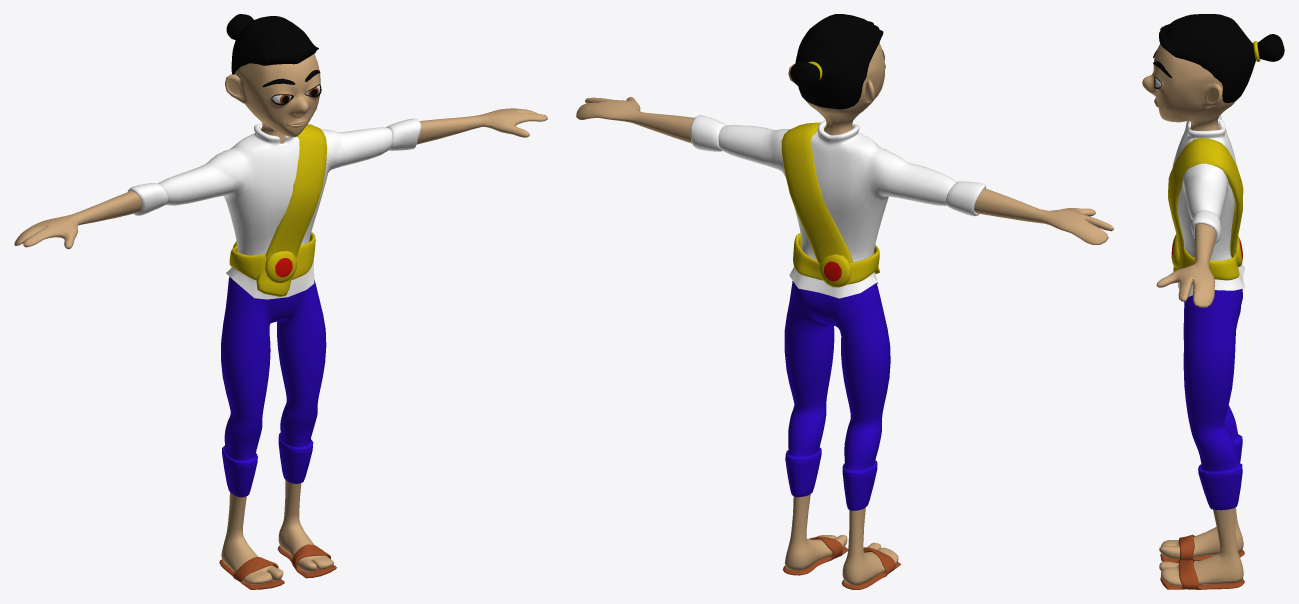
Rendered from OlderBrother_Smooth_SpencerBarber.fbx.
3 views of the same model, side by side, from view 1: azimuth 30°, elevation 25°; view 2: azimuth 150°, elevation 25°; view 3: azimuth 270°, elevation 25° (orthographic).
Parts seen in each view (by area): view 1: polySurface1; view 2: polySurface1; view 3: polySurface1.
Part boxes in pixels (x1,y1,x2,y2): polySurface1: (14, 14, 547, 589); polySurface1: (576, 14, 1113, 589); polySurface1: (1142, 14, 1284, 589).
Bounding box in the file's own units: 13.76 × 13.59 × 3.18.
